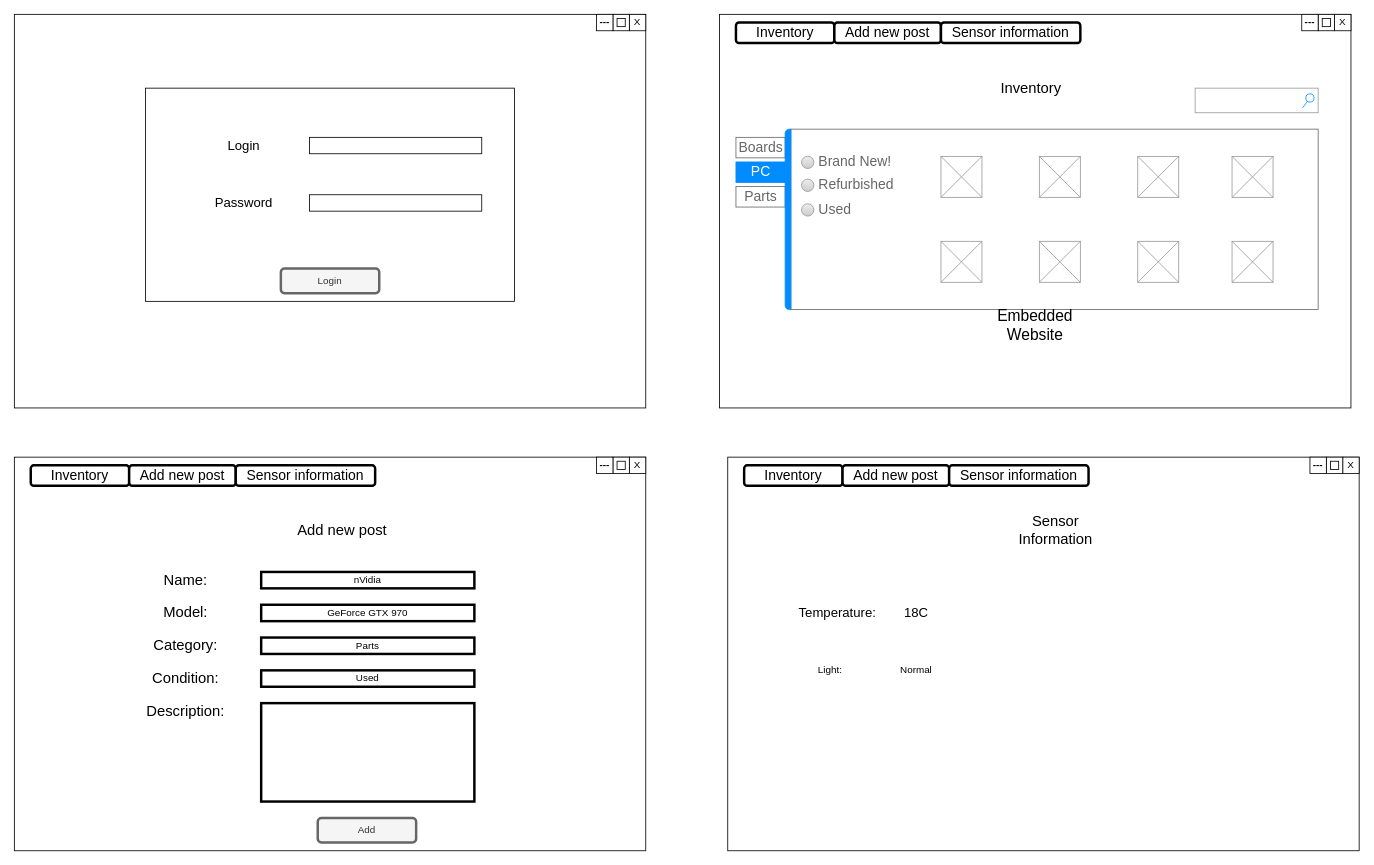
Image size: 1374x865. Some labels were removed from this diagram. The shapes that lost their labels are listed below. From the top down, each one's box as (x1, y1, x2, y2) in pixels, then its label:
(1194, 87, 1318, 113): Search
(260, 702, 475, 802): Lorem Ipsum
